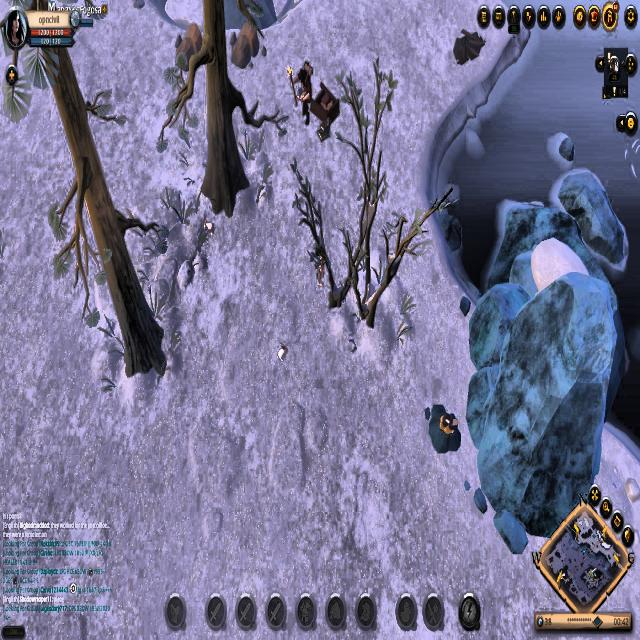copper_ore: (424, 404, 467, 452)
limestone: (228, 14, 258, 71)
mob: (286, 58, 317, 128)
